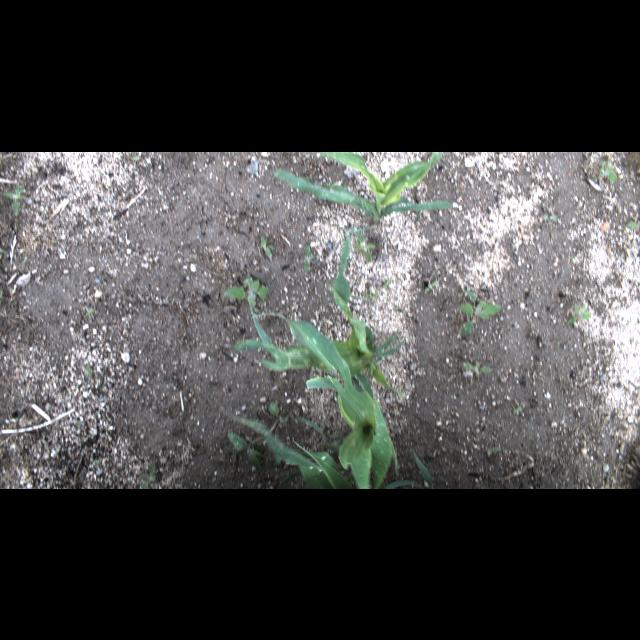crop: (220, 312, 400, 488), (232, 224, 408, 398), (274, 152, 452, 222)
weed: (458, 290, 502, 338), (226, 433, 264, 475), (225, 278, 268, 304), (4, 183, 30, 214), (356, 232, 374, 262), (465, 360, 491, 380), (597, 160, 617, 182), (268, 402, 286, 422), (303, 246, 315, 270), (260, 234, 270, 254)
